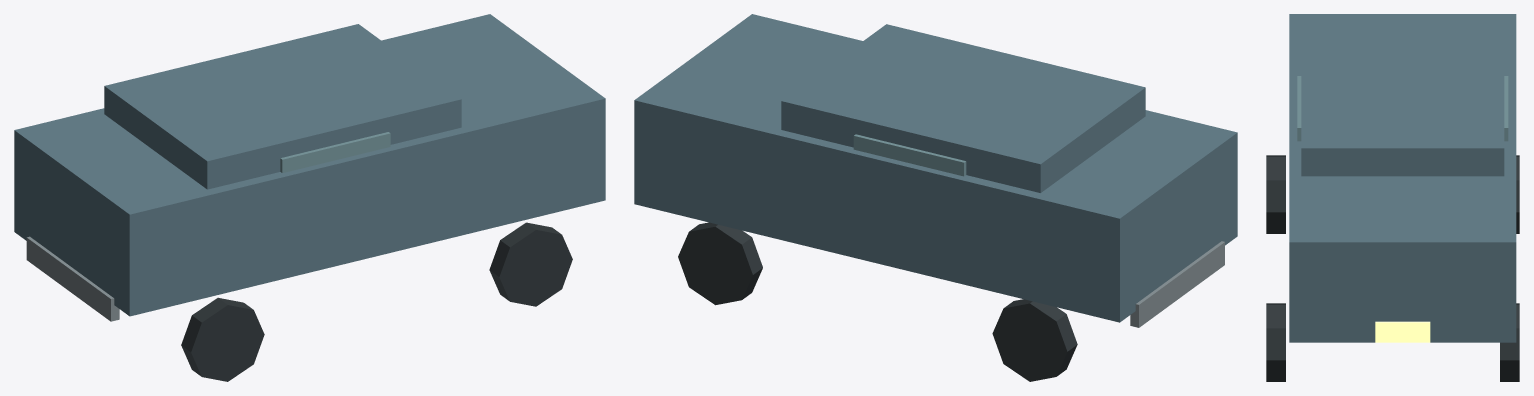
File: car_boxy.glb
3 renders of one model, left to right at view 1: azimuth 30°, elevation 25°; view 2: azimuth 150°, elevation 25°; view 3: azimuth 270°, elevation 25°, orthographic. The views are drawn at different scales.
Visible parts, largest first — view 1: car_boxy; view 2: car_boxy; view 3: car_boxy.
Boxes of the visible parts, x1,y1,x2,y2 form: car_boxy: (14, 14, 605, 381); car_boxy: (634, 14, 1237, 381); car_boxy: (1266, 14, 1519, 381).
Bounding box in the file's own units: 4.45 × 1.84 × 2.06.
